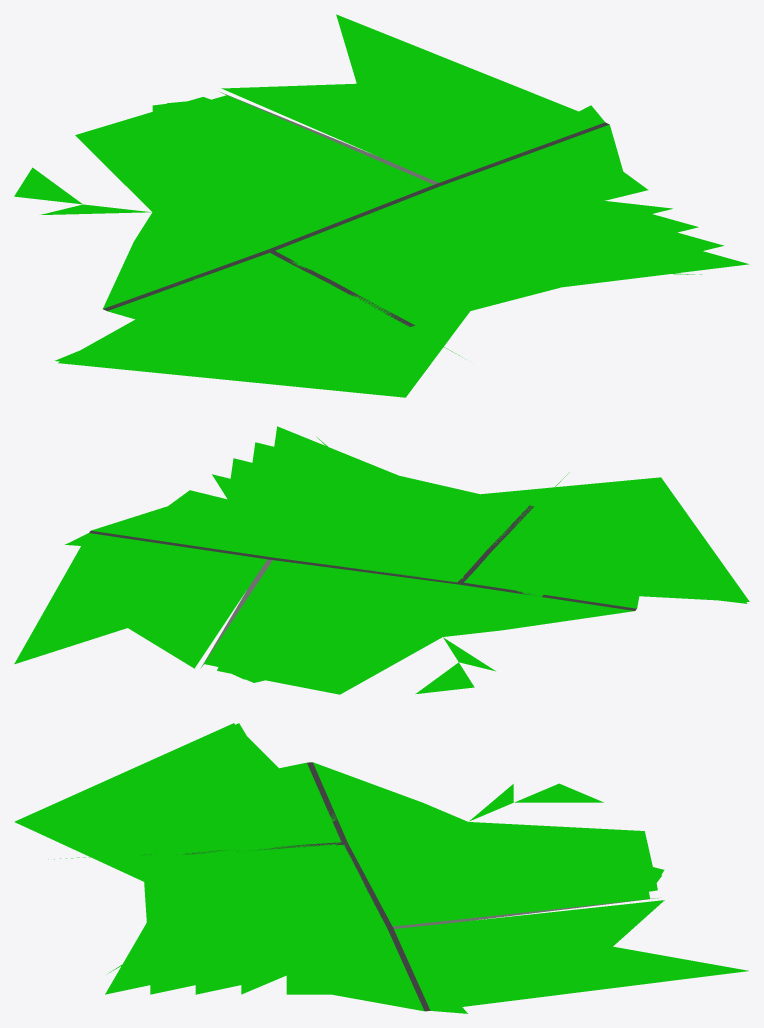
3 views of the same model, one above another, from view 1: azimuth 30°, elevation 25°; view 2: azimuth 150°, elevation 25°; view 3: azimuth 270°, elevation 25° (orthographic). The views are drawn at different scales.
Size of the model in its own units: 454 by 0 by 486.
